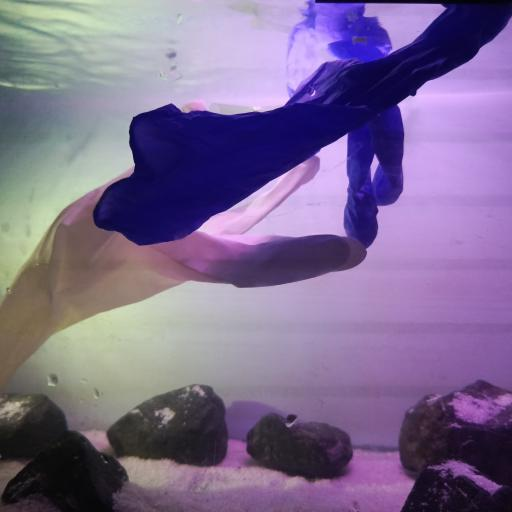glove: (0, 98, 366, 409), (92, 2, 510, 249)
